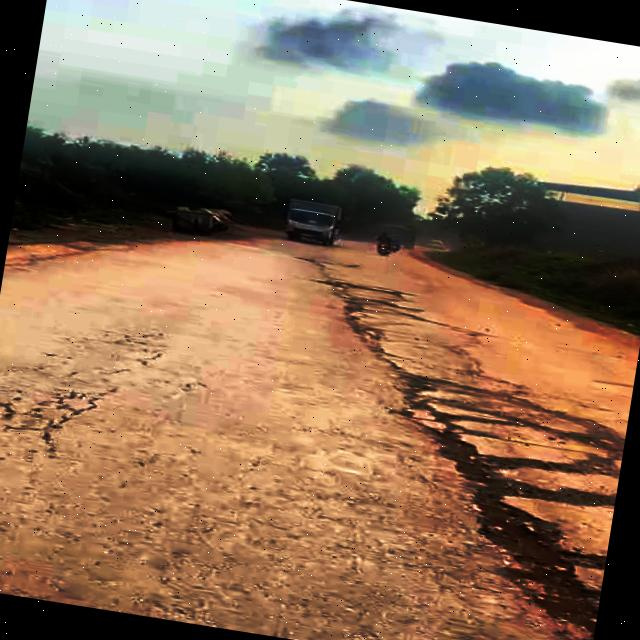pothole: (364, 377, 629, 630)
